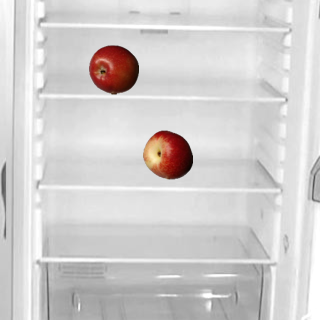Apple Braeburn: (88, 44, 138, 94)
Nectarine: (142, 129, 192, 179)
